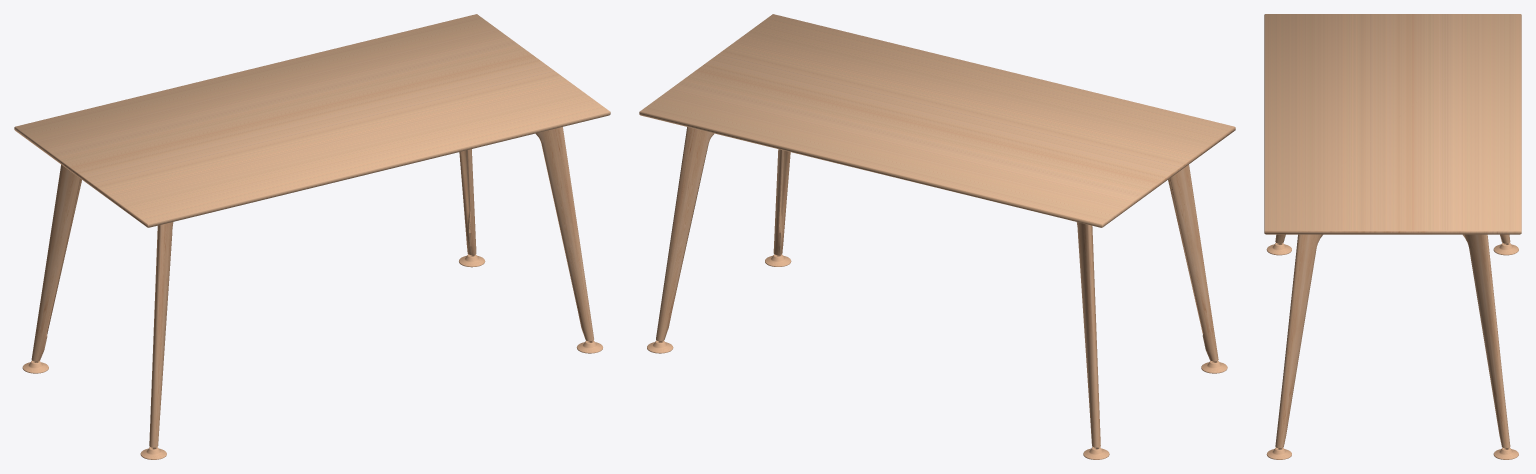
The model's file is desk.obj.
The picture shows the model from 3 angles, left to right: view 1: azimuth 30°, elevation 25°; view 2: azimuth 150°, elevation 25°; view 3: azimuth 270°, elevation 25°; orthographic projection. The views are drawn at different scales.
Visible parts, largest first — view 1: top, legs, feet; view 2: top, legs, feet; view 3: top, legs, feet.
Part boxes in pixels (bbox=[...]): top: bbox=[14, 14, 610, 227]; legs: bbox=[31, 127, 593, 447]; feet: bbox=[22, 233, 602, 459]; top: bbox=[639, 14, 1235, 227]; legs: bbox=[656, 127, 1218, 447]; feet: bbox=[647, 233, 1227, 459]; top: bbox=[1264, 14, 1521, 234]; legs: bbox=[1275, 234, 1510, 447]; feet: bbox=[1266, 235, 1518, 459].
Bounding box in the file's own units: 150 × 74.01 × 75.
Materials: 1 (1 with a texture image).
